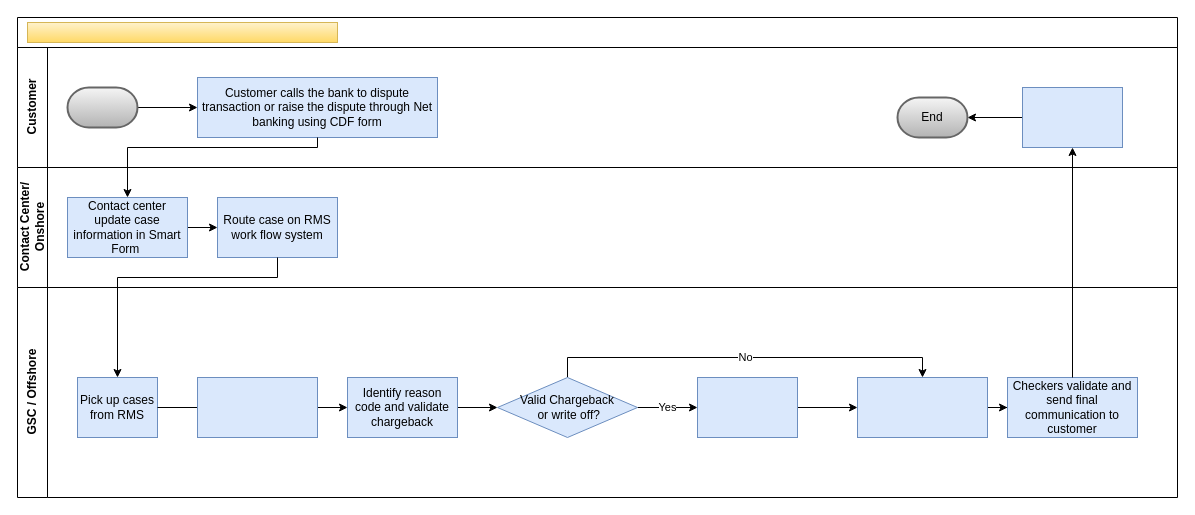
The diagram is 1195 pixels wide and 515 high, and some of its shapes have lost their labels. The shapes that lost their labels are listed below. From the top down, each one's centre as x and y in pixels, then its label:
the point at 182,32: India Chargeback Visa Credit Cards AS-IS High Level
the point at 102,107: Start
the point at 1072,117: Communication Received
the point at 257,407: Conduct Pre checks and validate card information on Echamps and VROL
the point at 747,407: Raise chargeback on VROL/ Write off on Echamps
the point at 922,407: Prepare Ack letter through KANA, Outlook and route to checker queue
